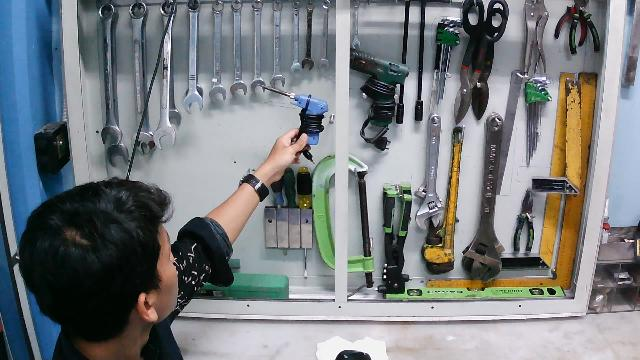solder_electrical: (256, 81, 327, 164)
